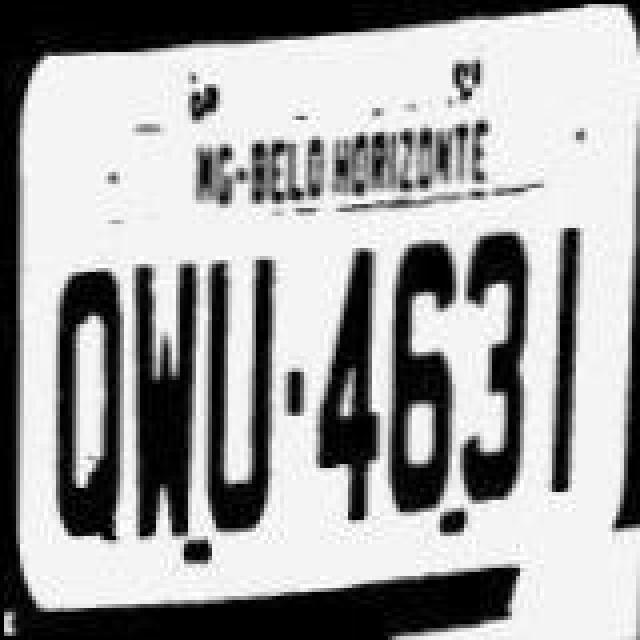1: (542, 212, 598, 500)
3: (458, 222, 538, 506)
4: (306, 232, 382, 536)
6: (382, 230, 462, 526)
Q: (46, 262, 130, 546)
U: (198, 238, 282, 542)
W: (120, 238, 200, 550)
